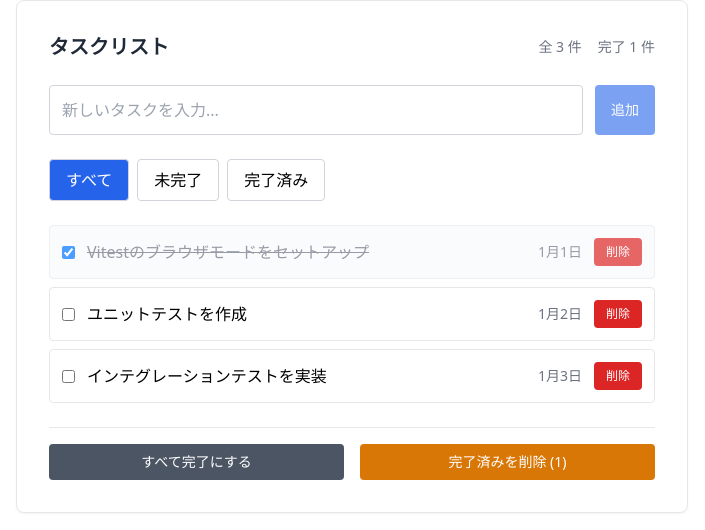
Test: TaskList コンポーネント › タスク削除機能 › 削除ボタンをクリックするとタスクが削除される
Expected: the element with test id "task-2" is shown, [49, 287, 655, 341]
Click the button with test id "remove-task-2": (618, 314) [594, 300, 642, 328]
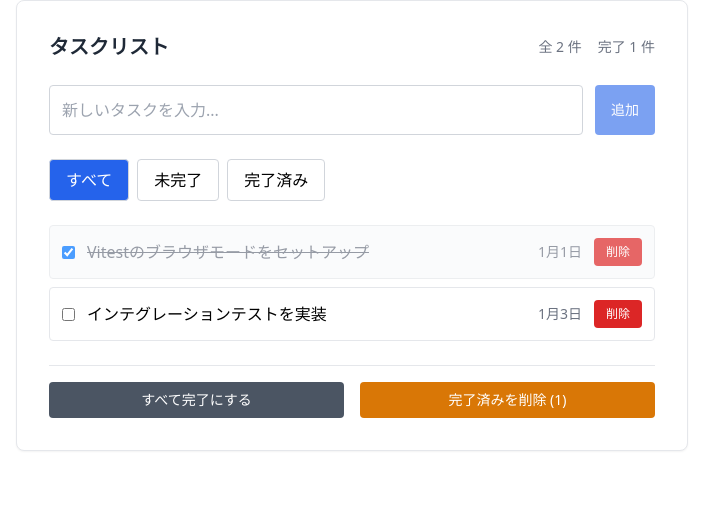
Result: the text with test id "total-tasks" reads "全 2 件" at [538, 37, 582, 56]
